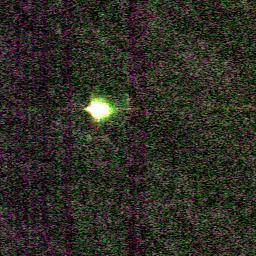Ship: (82, 96, 118, 121)
